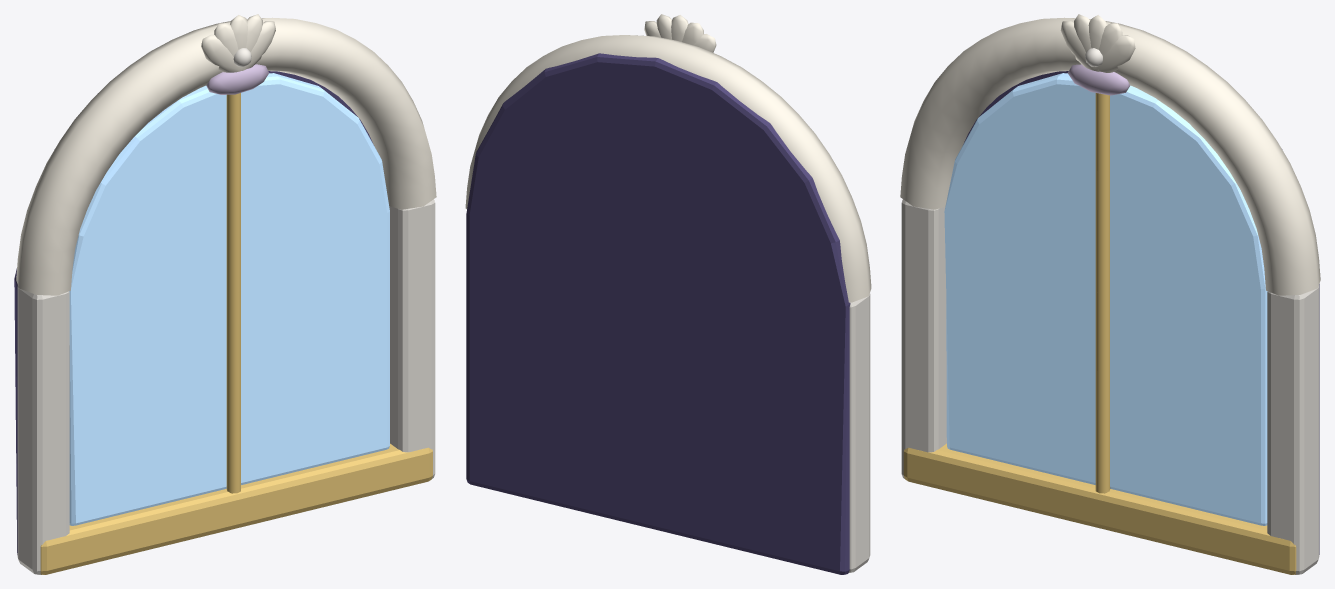
Rendered from pearl_shell_window.glb.
3 renders of one model, left to right at view 1: azimuth 30°, elevation 25°; view 2: azimuth 150°, elevation 25°; view 3: azimuth 330°, elevation 25°, orthographic. The views are drawn at different scales.
Parts seen in each view (by area): view 1: pearl_shell_window.001; view 2: pearl_shell_window.001; view 3: pearl_shell_window.001.
Part boxes in pixels (x1=…): pearl_shell_window.001: x1=14, y1=14, x2=436, y2=574; pearl_shell_window.001: x1=465, y1=14, x2=871, y2=574; pearl_shell_window.001: x1=900, y1=14, x2=1320, y2=574.
Size of the model in its own units: 6.4 by 7.61 by 0.932.
